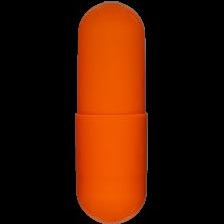63187-420: (0, 0, 224, 224)
